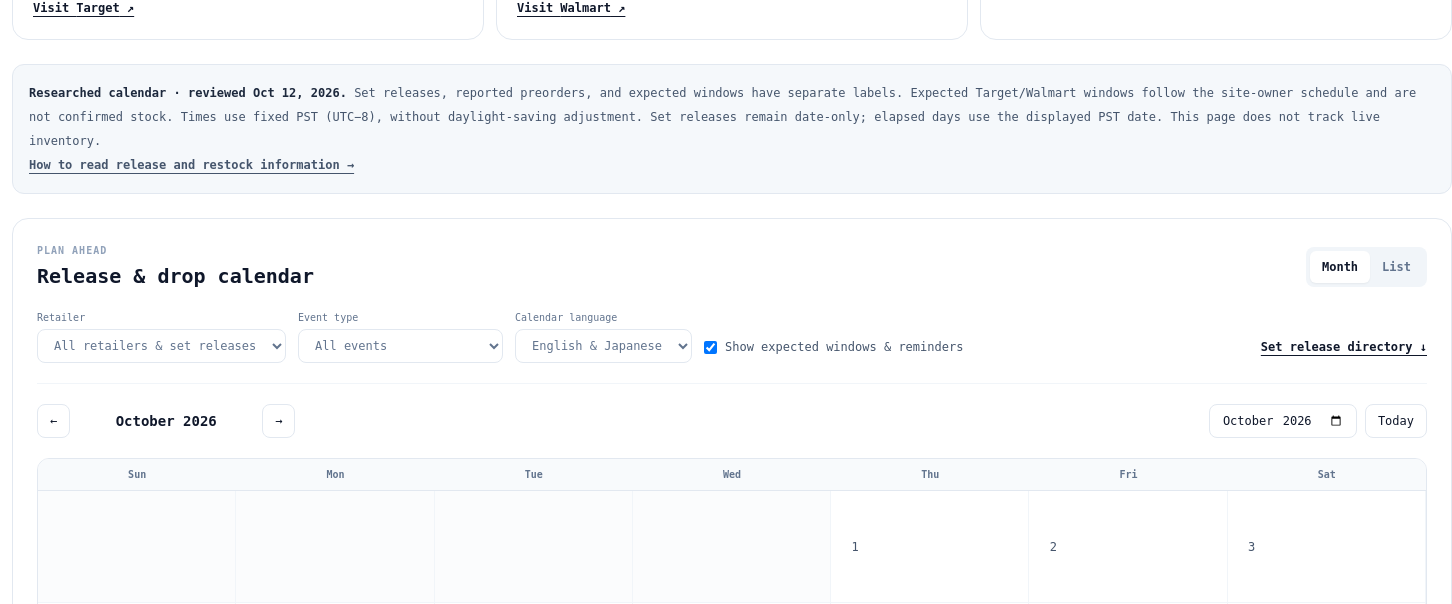
separates unannounced retailer drops from release dates and filters each retailer
Select "Target" in the dropdown labelled "Retailer": x=162, y=346 [37,329,286,363]
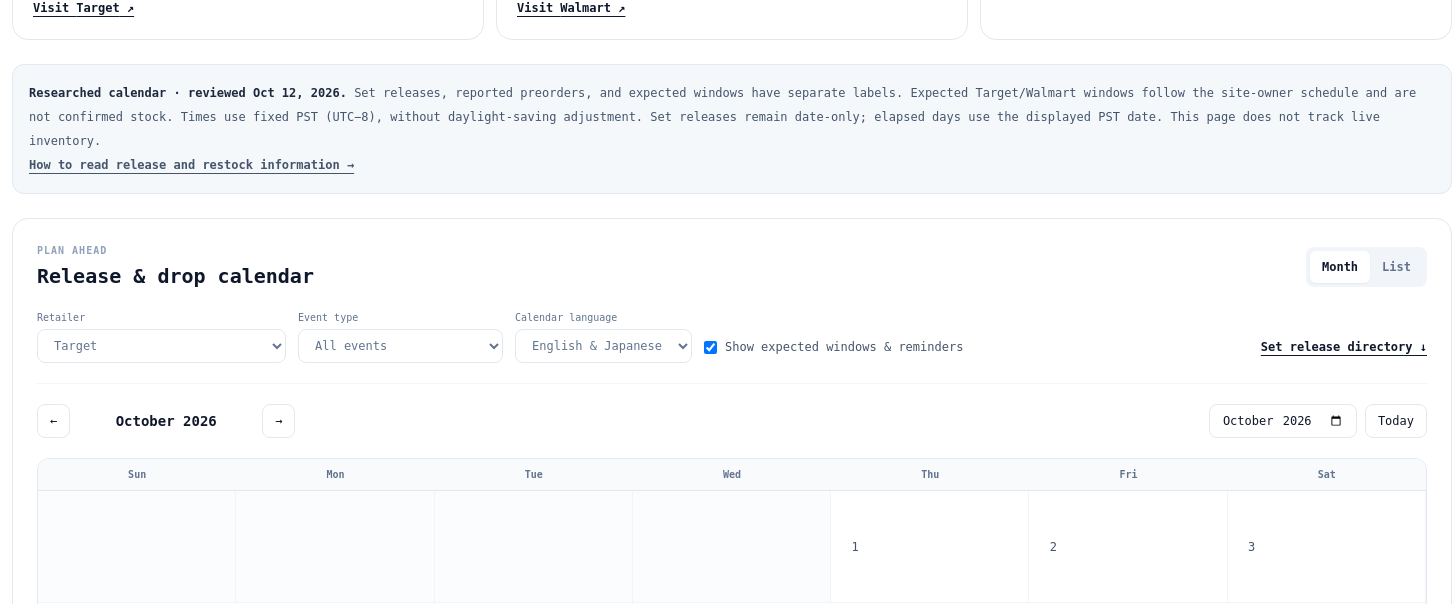
Click the checkbox labelled "Show expected windows & reminders": x=710, y=347 [704,340,717,354]
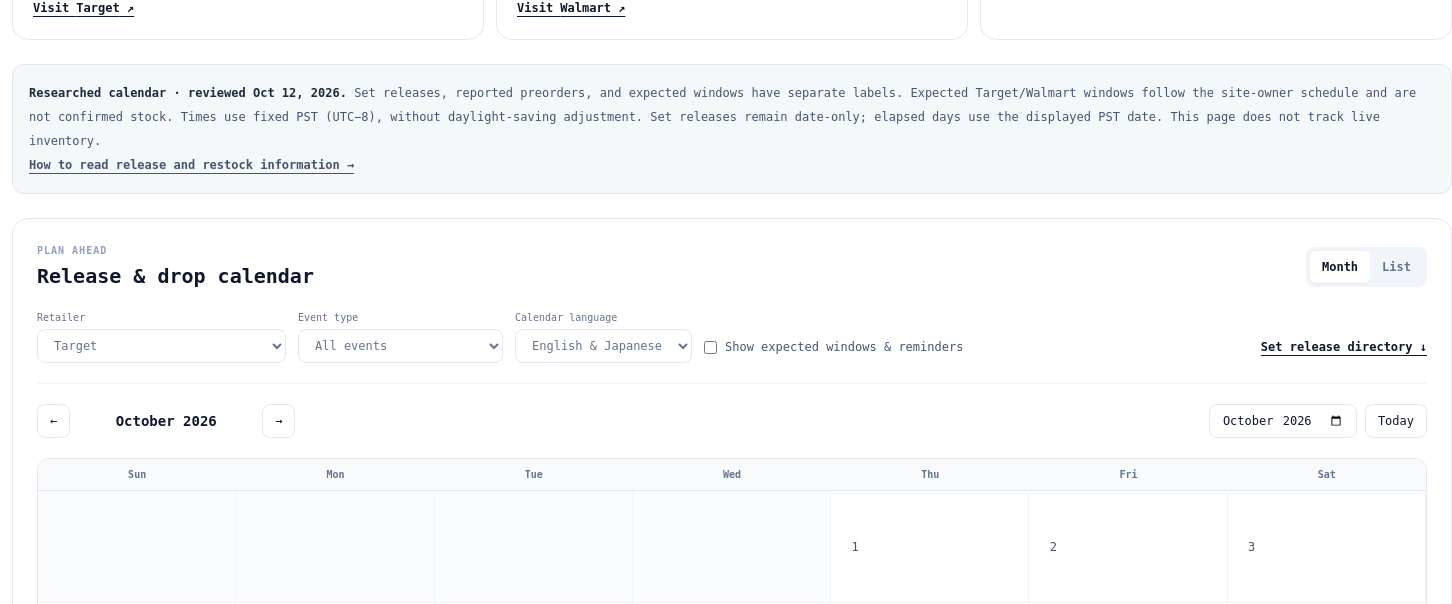
Select "Product / set releases" in the dropdown labelled "Event type": x=400, y=346 [298,329,503,363]
(page scrolled)
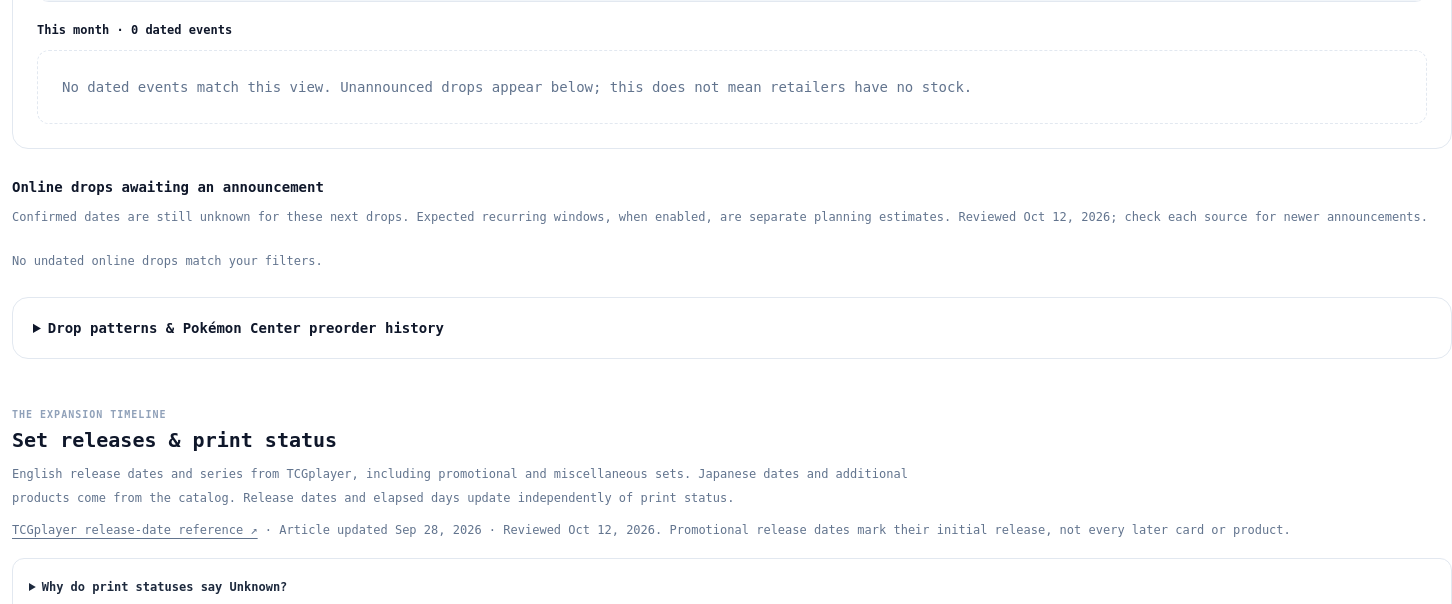
Expected: the text "No undated online drops match your filters." is shown, [12,254,323,268]
